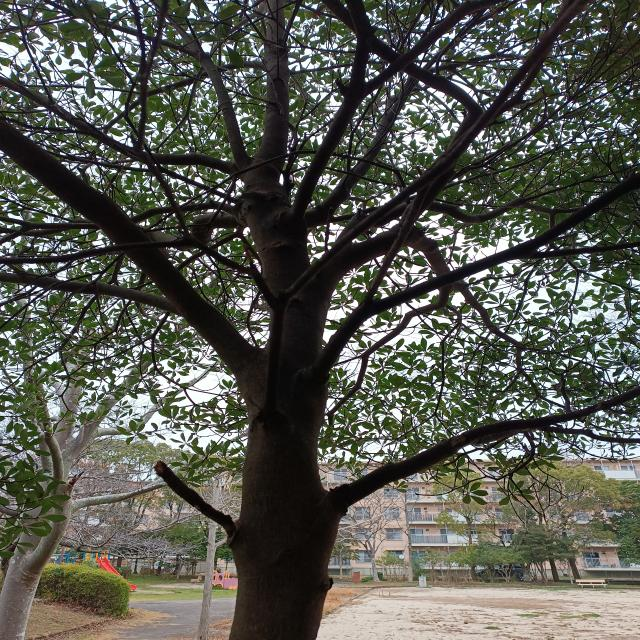Branch: (0, 118, 259, 370), (232, 264, 343, 516), (231, 0, 307, 275), (333, 419, 545, 507), (293, 77, 370, 216), (319, 227, 396, 274), (405, 226, 451, 276)
Twig: (0, 77, 234, 176), (345, 0, 481, 112), (363, 159, 458, 302), (367, 0, 502, 93), (167, 16, 248, 167), (382, 237, 538, 308), (334, 284, 455, 365), (535, 172, 640, 247), (154, 459, 231, 535), (452, 280, 528, 352), (321, 298, 386, 371), (540, 387, 640, 425), (433, 304, 462, 415), (326, 356, 368, 426), (533, 241, 639, 259), (529, 348, 608, 371), (544, 426, 640, 443), (516, 350, 542, 398), (321, 0, 355, 34), (352, 40, 369, 82)
